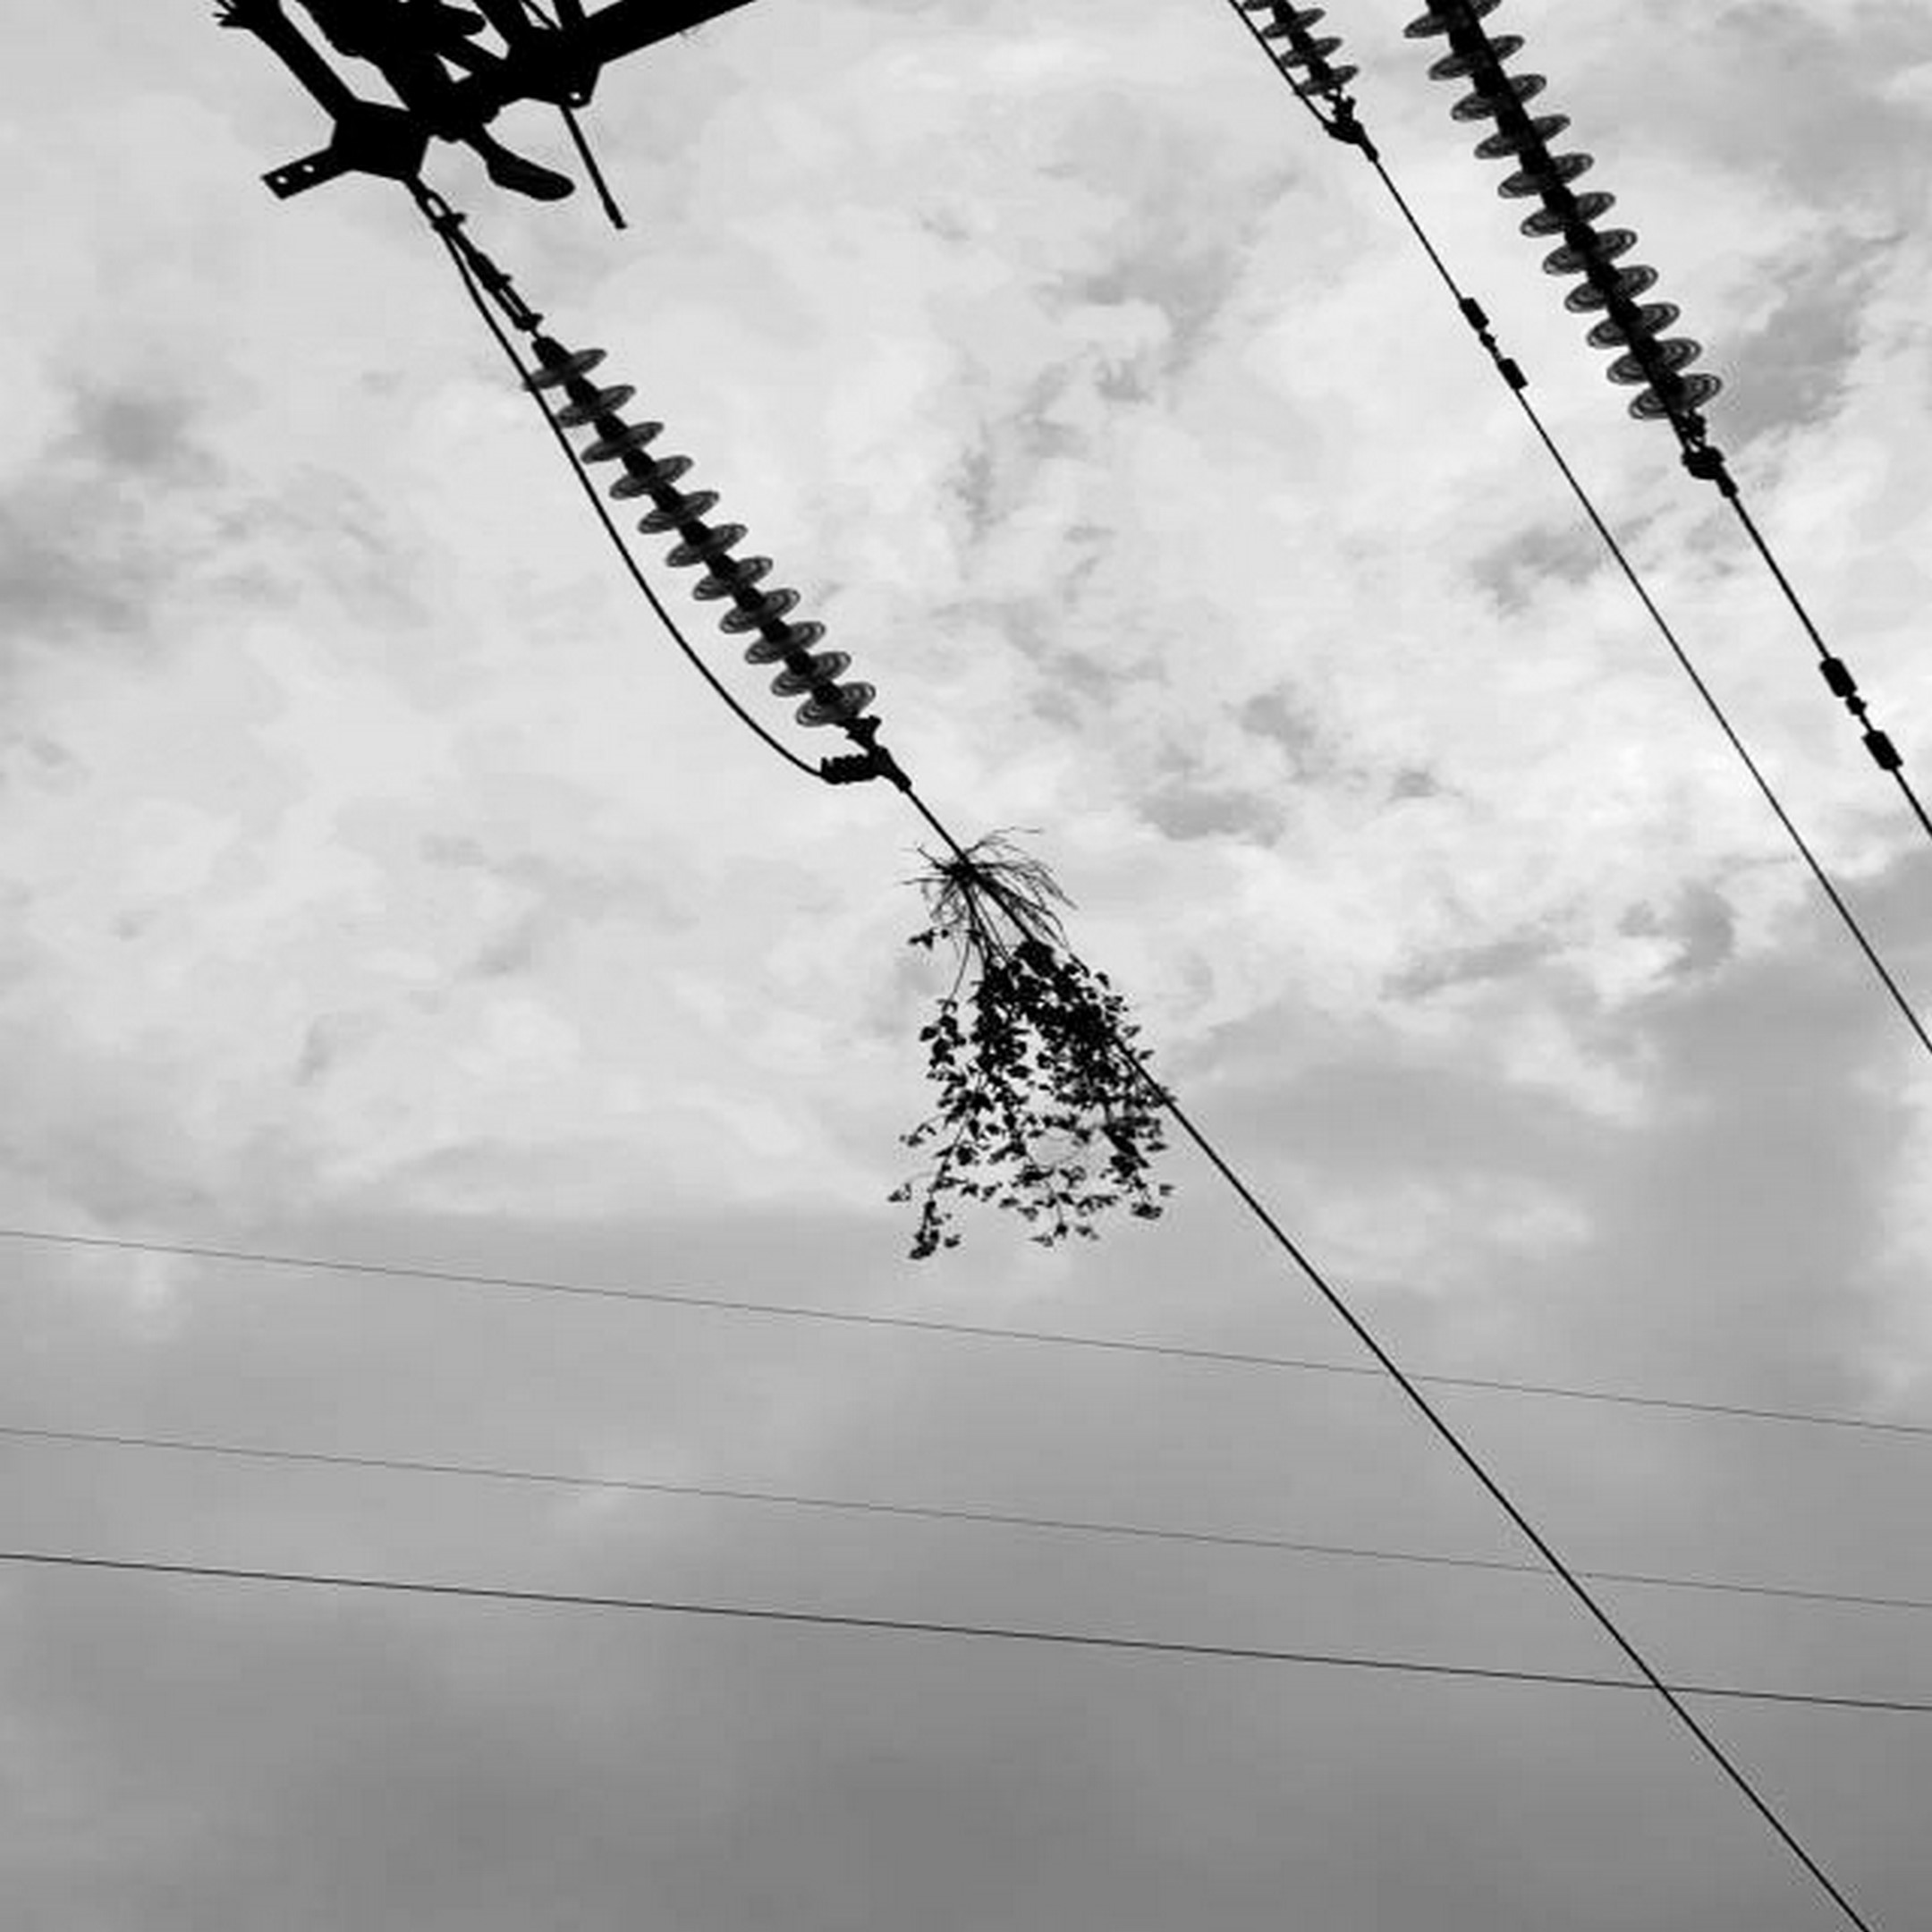wire foreign body: (846, 833, 1228, 1272)
